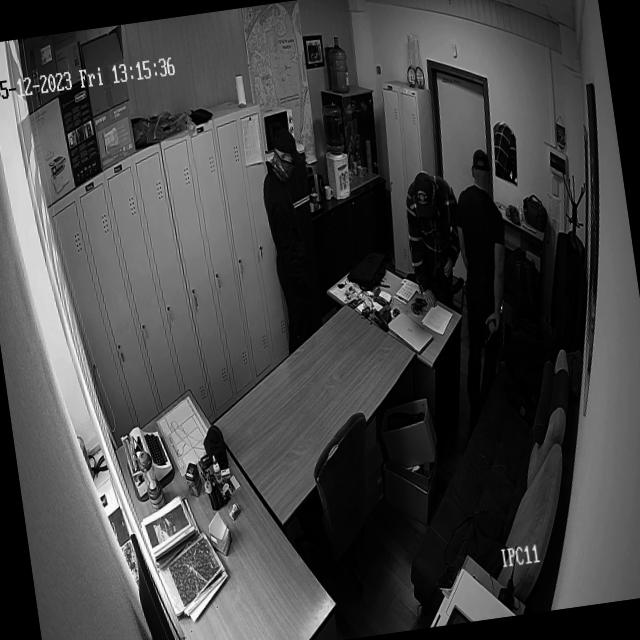gun: (435, 228, 468, 314), (478, 312, 508, 355)
person: (258, 132, 322, 350)
person with a gun: (433, 148, 534, 432), (400, 172, 470, 306)
